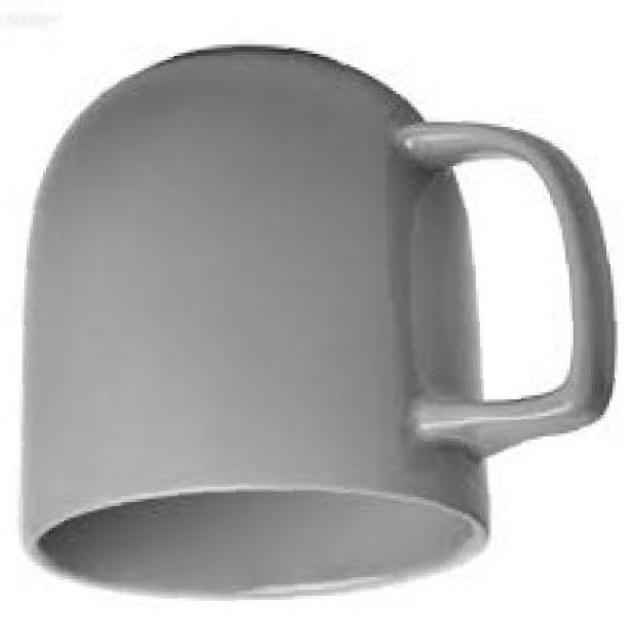cup: (13, 39, 629, 609)
